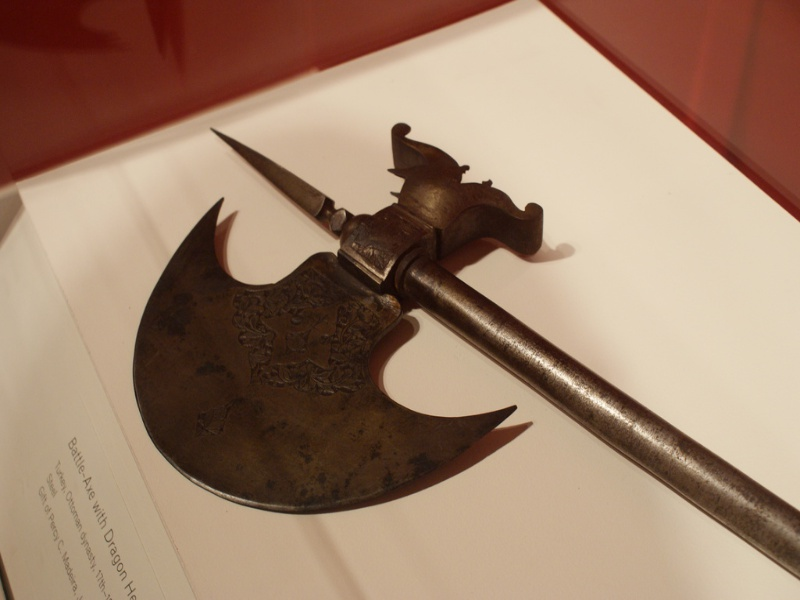axe: (128, 110, 556, 520)
